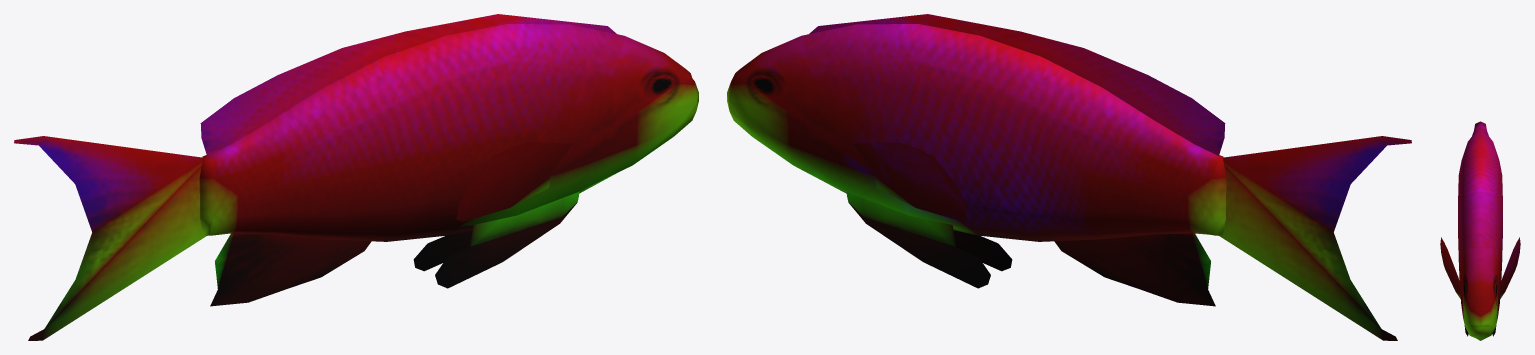
The model's file is lyretail_anthias.glb.
3 renders of one model, left to right at view 1: azimuth 30°, elevation 25°; view 2: azimuth 150°, elevation 25°; view 3: azimuth 270°, elevation 25°, orthographic. The views are drawn at different scales.
Parts seen in each view (by area): view 1: LyretailAnthias; view 2: LyretailAnthias; view 3: LyretailAnthias.
Boxes of the visible parts, left/top/right/bottom form: LyretailAnthias: left=14, top=14, right=698, bottom=340; LyretailAnthias: left=727, top=14, right=1411, bottom=340; LyretailAnthias: left=1440, top=121, right=1520, bottom=340.
Bounding box in the file's own units: 1 × 0.3571 × 0.1476.
1 material, 1 textured.
